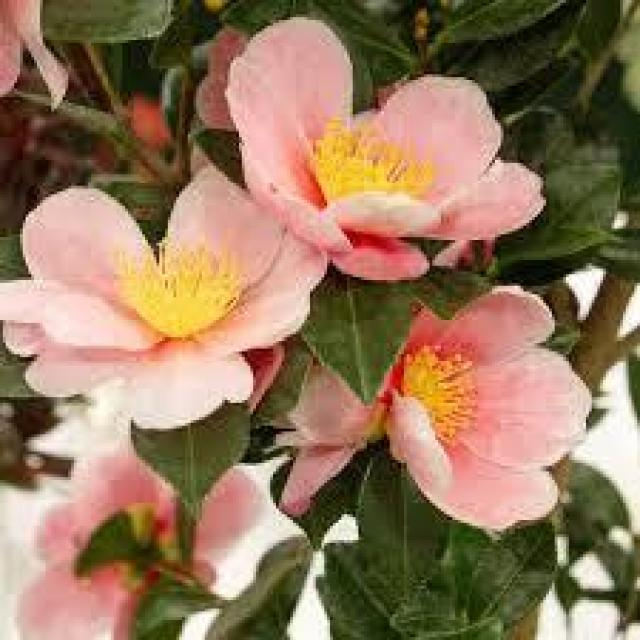organic waste: (226, 22, 556, 284), (6, 183, 327, 440), (407, 289, 597, 540)
